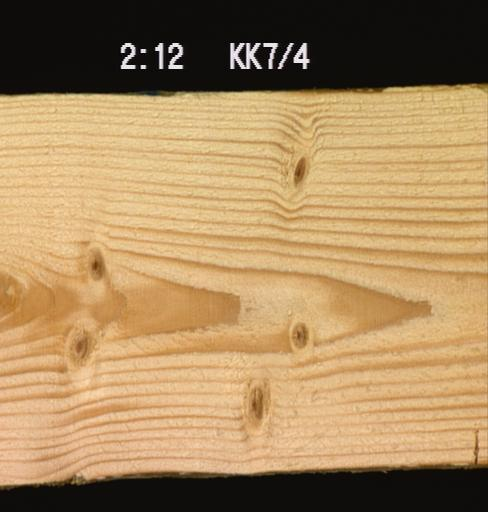sound_knot: (62, 324, 92, 368), (242, 374, 267, 423), (287, 150, 307, 190), (83, 241, 105, 277), (285, 319, 309, 352)
